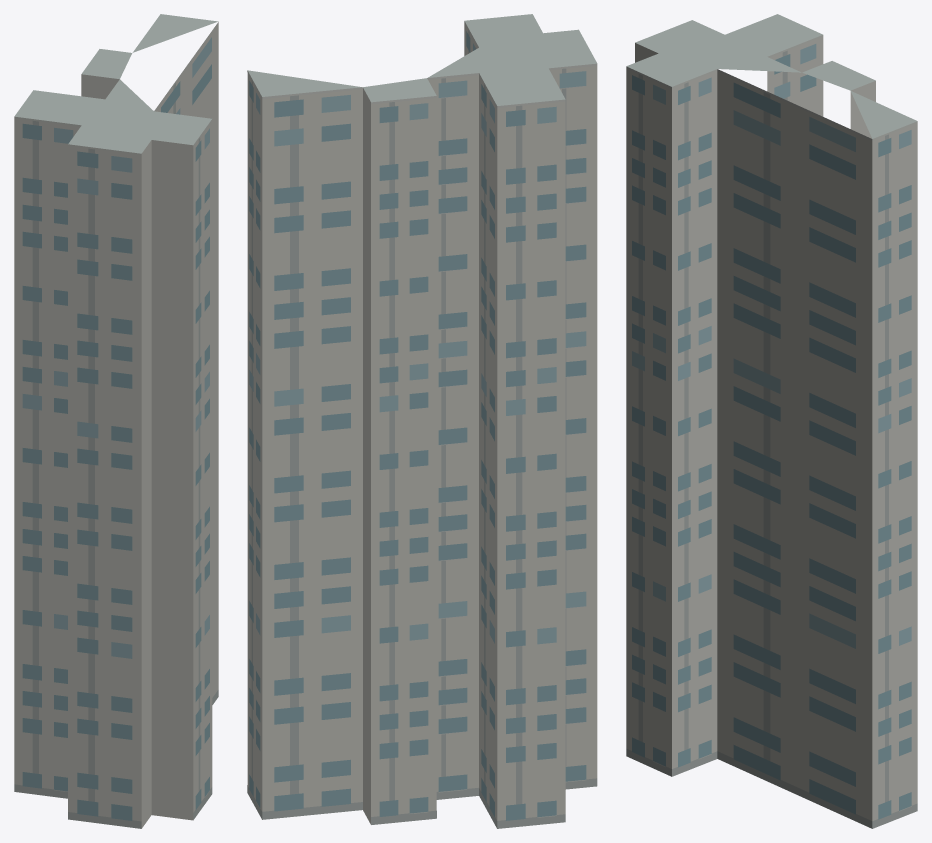
Rendered from residential-9610b855-97e0-40e6-bcb8-dc9b6b13bbab.glb.
3 renders of one model, left to right at view 1: azimuth 30°, elevation 25°; view 2: azimuth 150°, elevation 25°; view 3: azimuth 270°, elevation 25°, orthographic. The views are drawn at different scales.
Parts seen in each view (by area): view 1: residential-9610b855-97e0-40e6-bcb8-dc9b6b13bbab.tmp; view 2: residential-9610b855-97e0-40e6-bcb8-dc9b6b13bbab.tmp; view 3: residential-9610b855-97e0-40e6-bcb8-dc9b6b13bbab.tmp.
Boxes of the visible parts, x1,y1,x2,y2 form: residential-9610b855-97e0-40e6-bcb8-dc9b6b13bbab.tmp: (14, 14, 218, 828); residential-9610b855-97e0-40e6-bcb8-dc9b6b13bbab.tmp: (247, 14, 597, 828); residential-9610b855-97e0-40e6-bcb8-dc9b6b13bbab.tmp: (626, 14, 917, 828).
Size of the model in its own units: 36.55 by 94 by 36.01.
